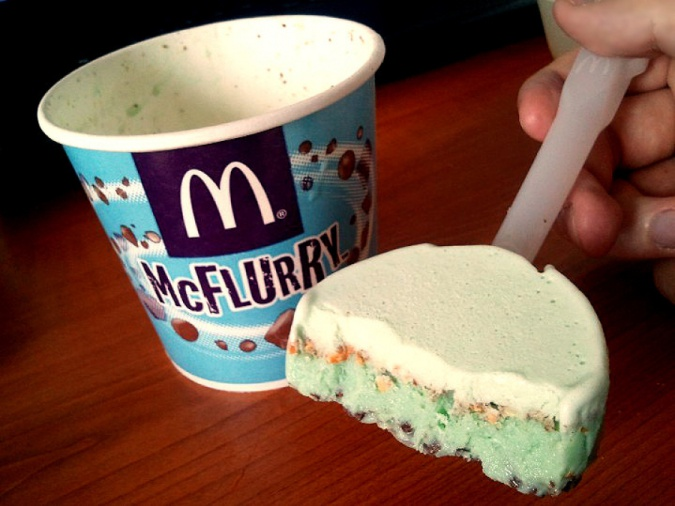mcdonalds: (168, 157, 285, 240)
